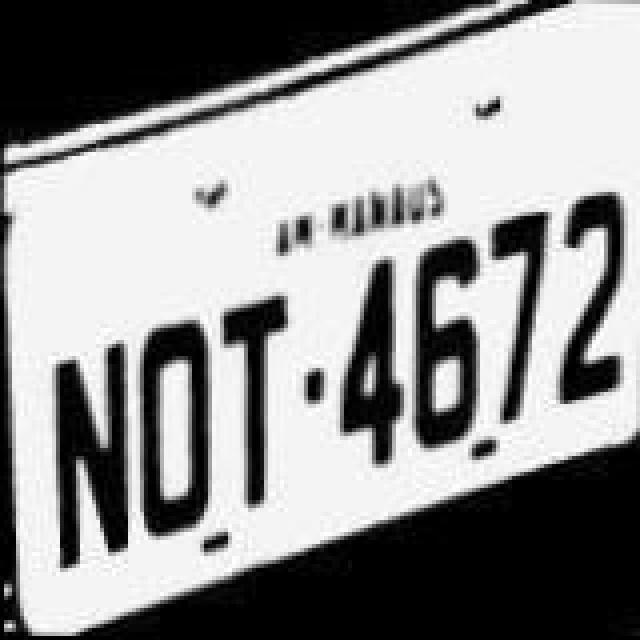2: (550, 168, 638, 424)
4: (336, 254, 412, 478)
6: (404, 230, 488, 458)
7: (482, 202, 562, 430)
N: (42, 336, 134, 576)
O: (138, 314, 214, 542)
T: (216, 288, 288, 512)
